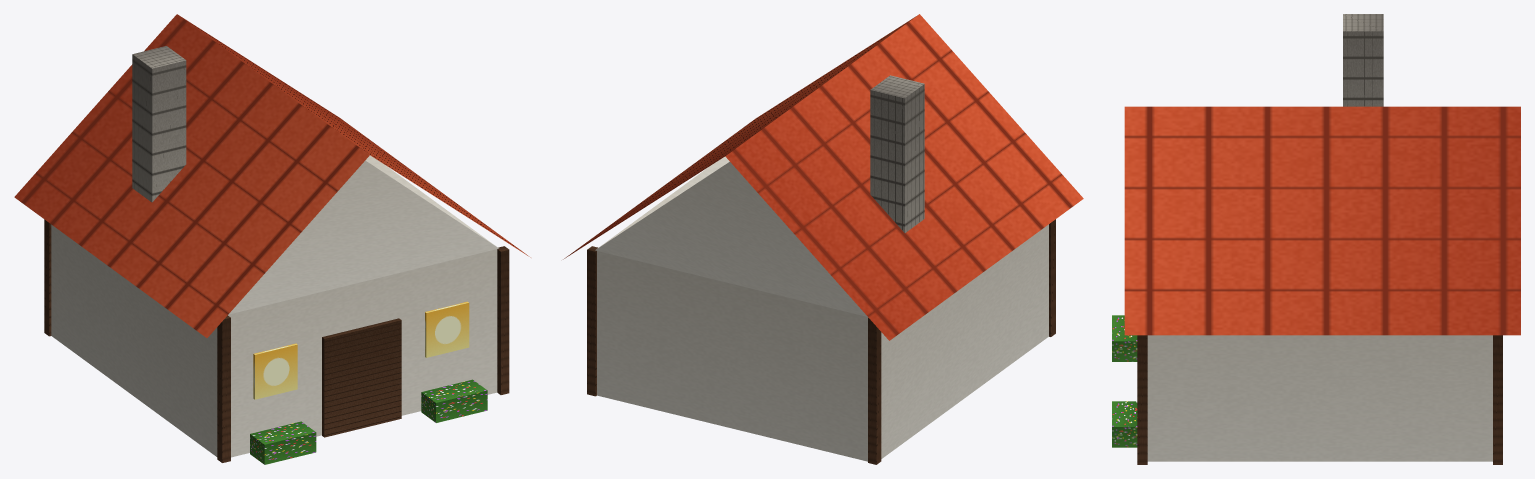
File: house_cottage.gltf
The picture shows the model from 3 angles, left to right: view 1: azimuth 30°, elevation 25°; view 2: azimuth 150°, elevation 25°; view 3: azimuth 270°, elevation 25°; orthographic projection. The views are drawn at different scales.
Parts seen in each view (by area): view 1: house_cottage; view 2: house_cottage; view 3: house_cottage.
Part boxes in pixels (box(x1,y1,x2,y2)): house_cottage: box(14, 14, 530, 464); house_cottage: box(563, 14, 1083, 464); house_cottage: box(1112, 14, 1520, 464).
Bounding box in the file's own units: 7.6 × 7 × 8.05.
1 material, 1 textured.
